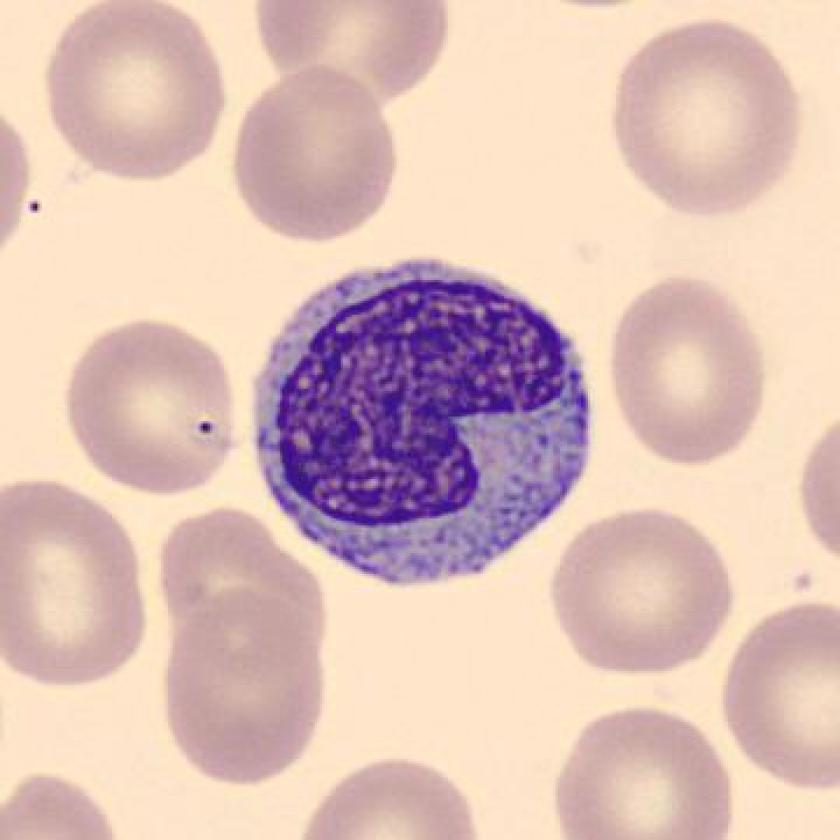monocyte: (239, 246, 615, 619)
